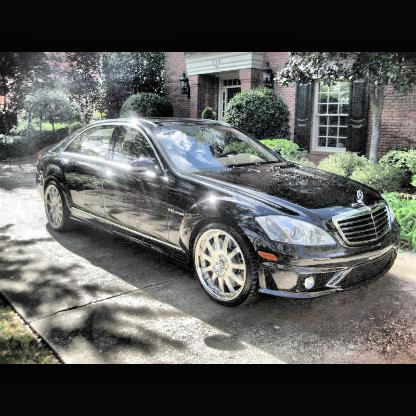Mercedes-Benz S-Class Sedan 2012: (36, 118, 403, 308)
